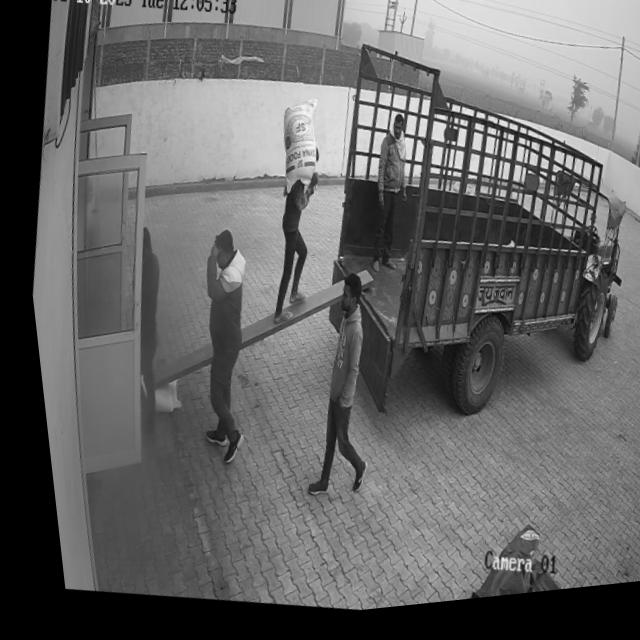sack: (264, 98, 325, 206)
